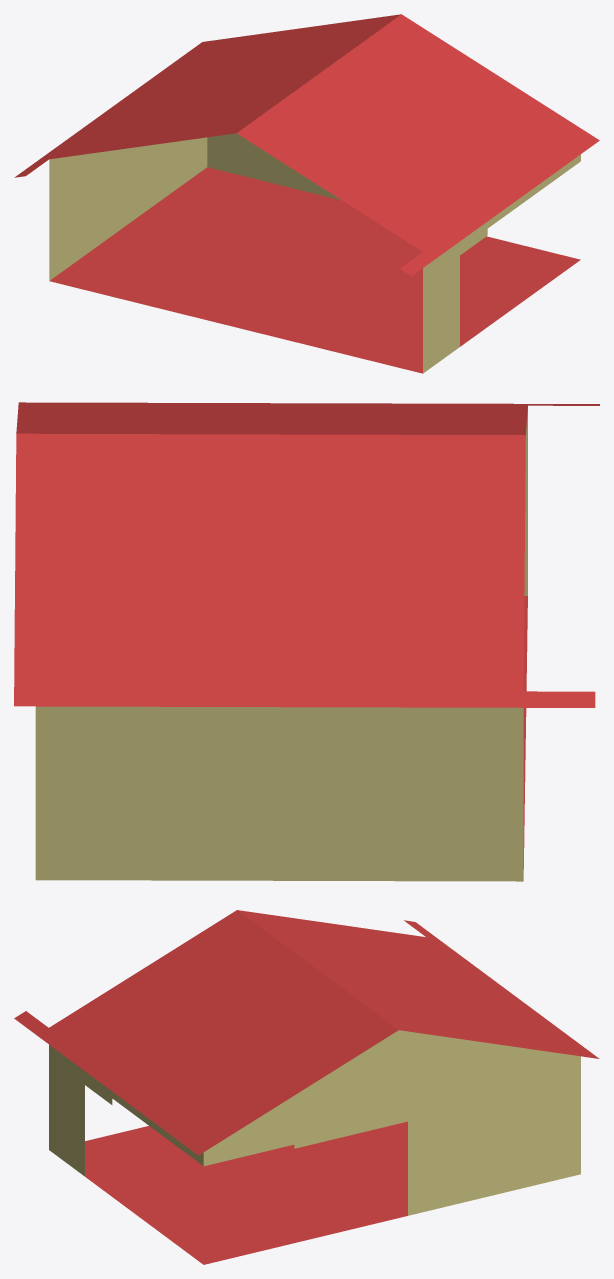
3 views of the same model, one above another, from view 1: azimuth 30°, elevation 25°; view 2: azimuth 150°, elevation 25°; view 3: azimuth 270°, elevation 25° (orthographic). The views are drawn at different scales.
Size of the model in its own units: 39.8 by 42.19 by 15.47.
